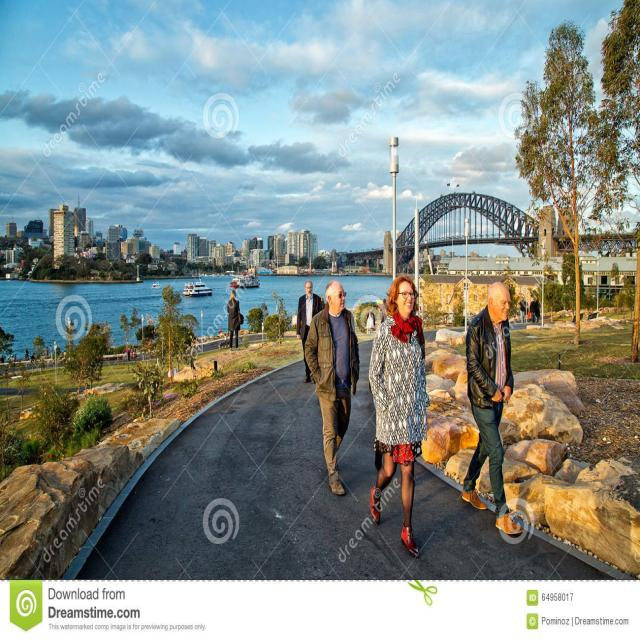body: (368, 273, 432, 558), (461, 280, 526, 536), (304, 279, 360, 495), (0, 340, 140, 370), (295, 279, 323, 385), (226, 289, 241, 352), (518, 296, 527, 324), (366, 307, 376, 328), (534, 296, 542, 322), (380, 298, 388, 322), (529, 297, 536, 322), (366, 313, 374, 328), (320, 296, 325, 308)
